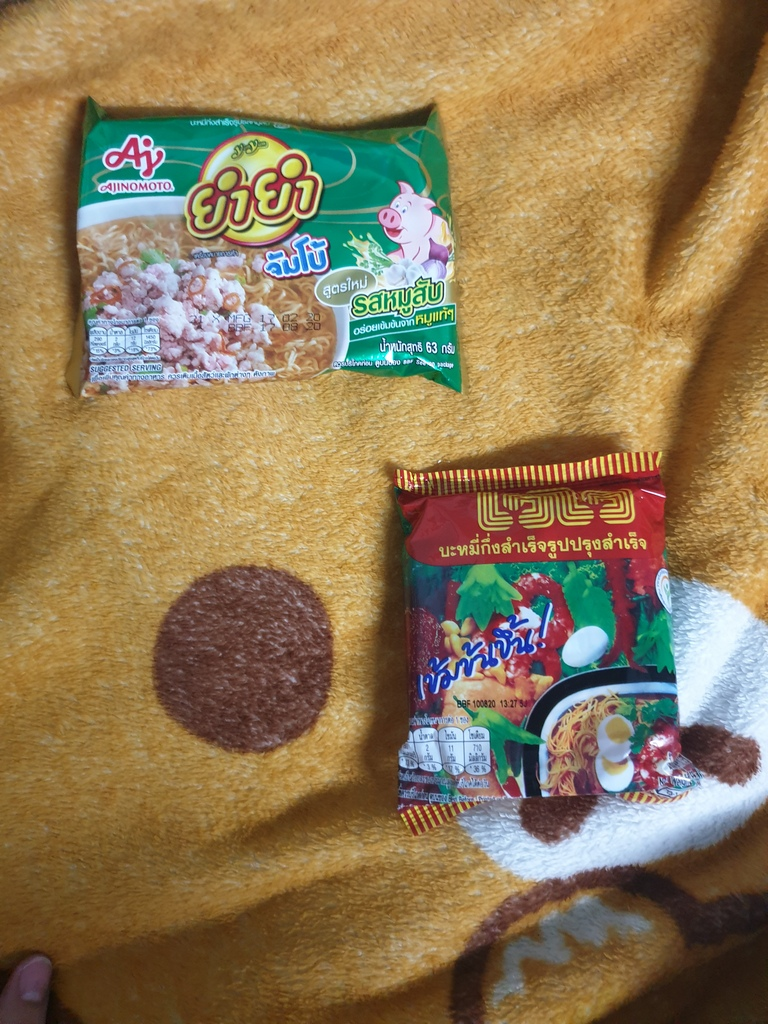waiwai: (392, 459, 704, 812)
yumyum: (68, 89, 480, 399)
